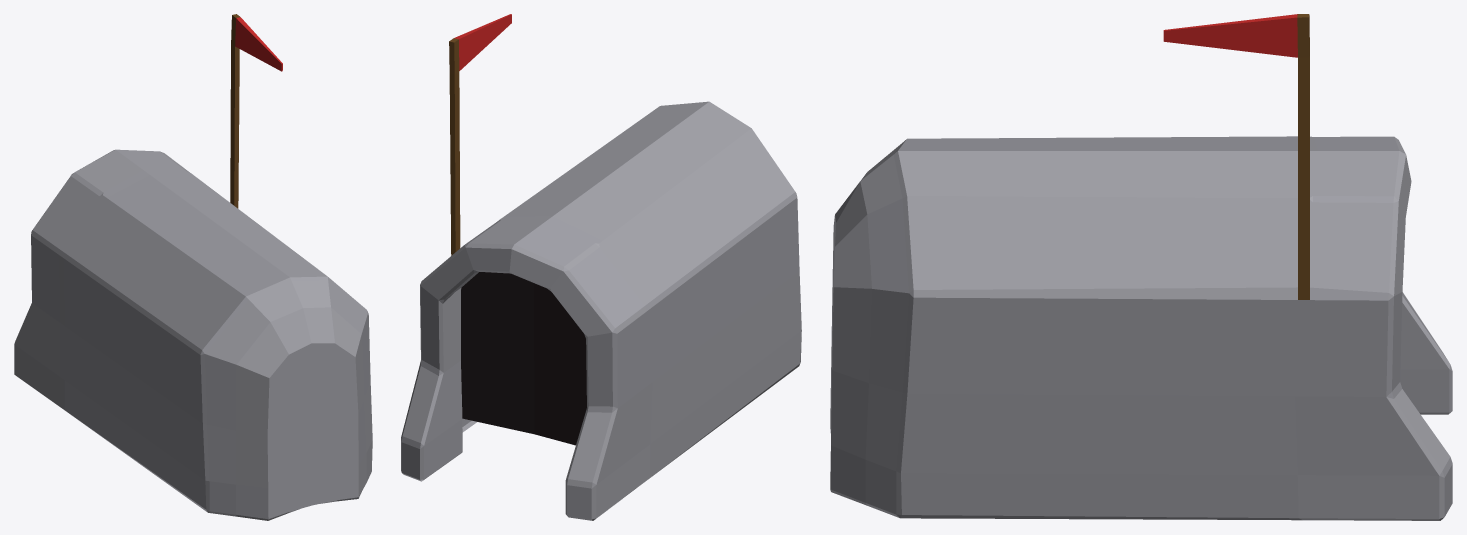
Rendered from RatHole.fbx.
3 views of the same model, side by side, from view 1: azimuth 30°, elevation 25°; view 2: azimuth 150°, elevation 25°; view 3: azimuth 270°, elevation 25° (orthographic). The views are drawn at different scales.
Parts seen in each view (by area): view 1: Floor.001; view 2: Floor.001; view 3: Floor.001.
Part boxes in pixels (x1,y1,x2,y2): Floor.001: [14, 14, 372, 520]; Floor.001: [401, 14, 801, 520]; Floor.001: [830, 14, 1452, 520].
Bounding box in the file's own units: 95.99 × 182 × 202.
